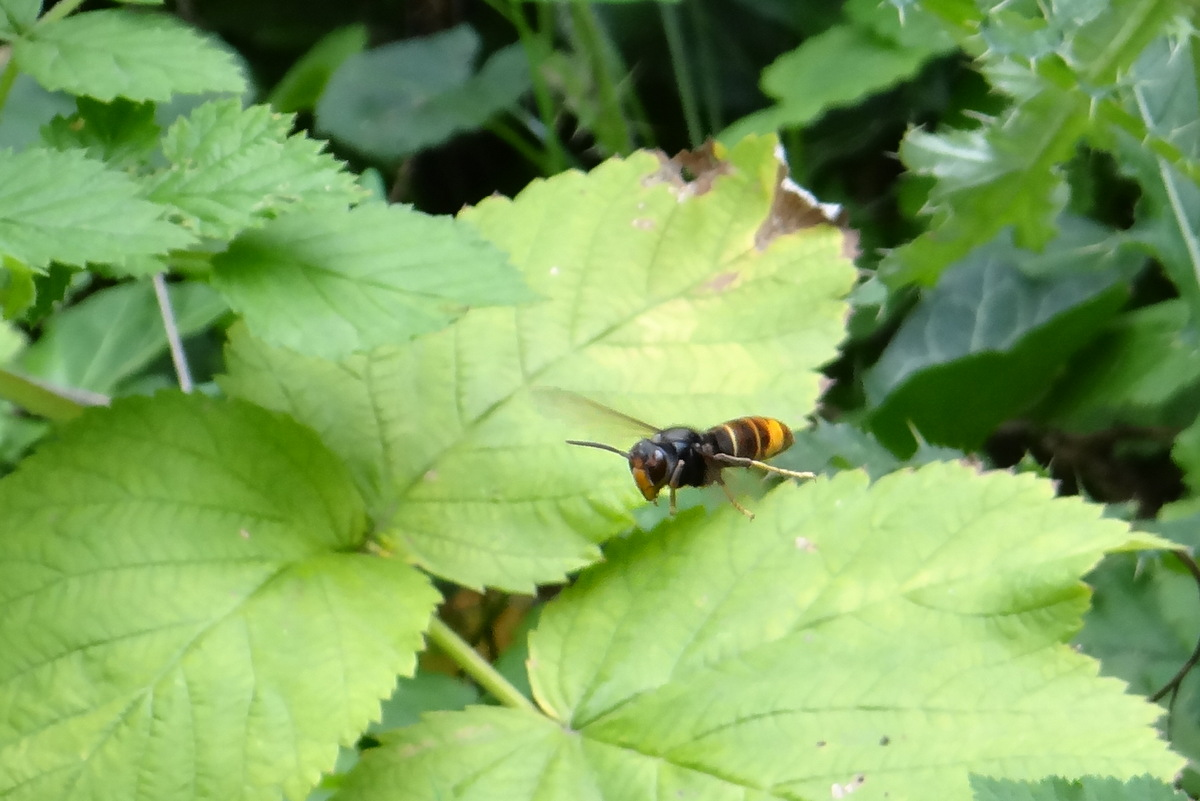hornet: (611, 407, 819, 524)
